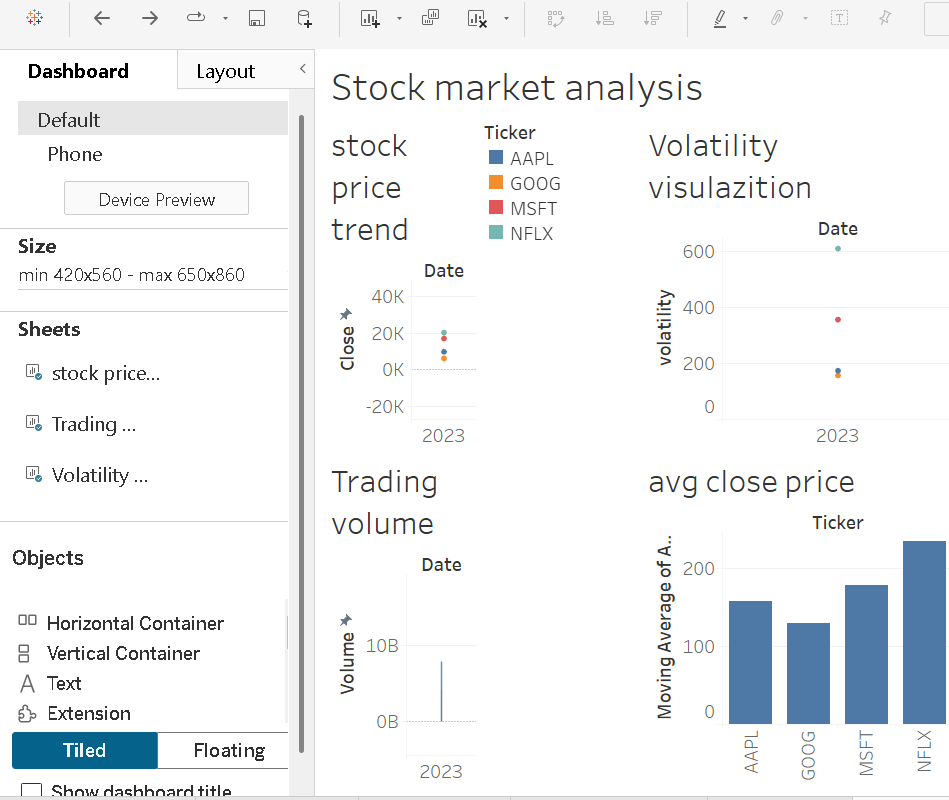

The dashboard page shown, as its layout file describes it:
{"tool":"tableau","page":{"name":"Stock market analysis","canvas":[650,860],"ordinal":0},"visuals":[{"type":"title","box":[8,9.2,634,66.8]},{"type":"worksheet","title":"stock price trend","mark":"Line","rows":["Close"],"cols":["Date"],"box":[8,76,157,387.4]},{"type":"legend","title":"stock price trend","param":"[federated.0p2v3xz07n1vas1aj71he00m784r].[none:Ticker:nk]","box":[165,76,160,154.3]},{"type":"worksheet","title":"Volatility visulazition","mark":"Line","rows":["Calculation_402227764203716609"],"cols":["Date"],"box":[325,76,317,387.4]},{"type":"worksheet","title":"Trading volume","mark":"Area","rows":["Volume"],"cols":["Date"],"box":[8,463.4,157,387.4]},{"type":"worksheet","title":"avg close price","mark":"Bar","rows":["Close"],"cols":["Ticker"],"box":[325,463.4,317,387.4]}]}

Visuals, with their boxes on the page's 650x860 design canvas (x1, y1, x2, y2). These are canvas units, not pixel positions in the 949x800 screenshot, which may show the page scaled, cropped or inside an application window:
title: <region>8, 9, 642, 76</region>
"stock price trend" worksheet (Line marks): <region>8, 76, 165, 463</region>
"stock price trend" legend: <region>165, 76, 325, 230</region>
"Volatility visulazition" worksheet (Line marks): <region>325, 76, 642, 463</region>
"Trading volume" worksheet (Area marks): <region>8, 463, 165, 851</region>
"avg close price" worksheet (Bar marks): <region>325, 463, 642, 851</region>
